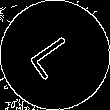L_NE: (25, 28, 85, 82)
